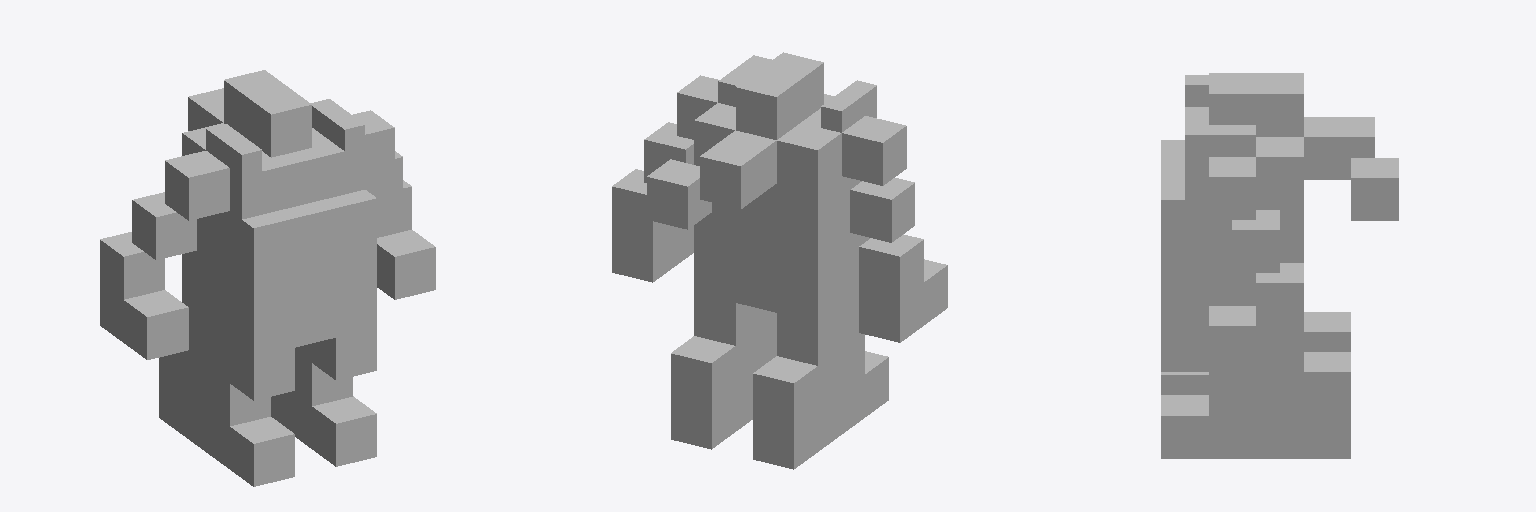
Rendered from Cave Story - Quote (Body).obj.
3 views of the same model, side by side, from view 1: azimuth 30°, elevation 25°; view 2: azimuth 150°, elevation 25°; view 3: azimuth 270°, elevation 25° (orthographic).
Visible parts, largest first — view 1: Body; view 2: Body; view 3: Body.
Part boxes in pixels (x1,y1,x2,y2): Body: (100,70,435,486); Body: (612,52,947,469); Body: (1161,73,1398,458).
Size of the model in its own units: 7 by 8 by 5.